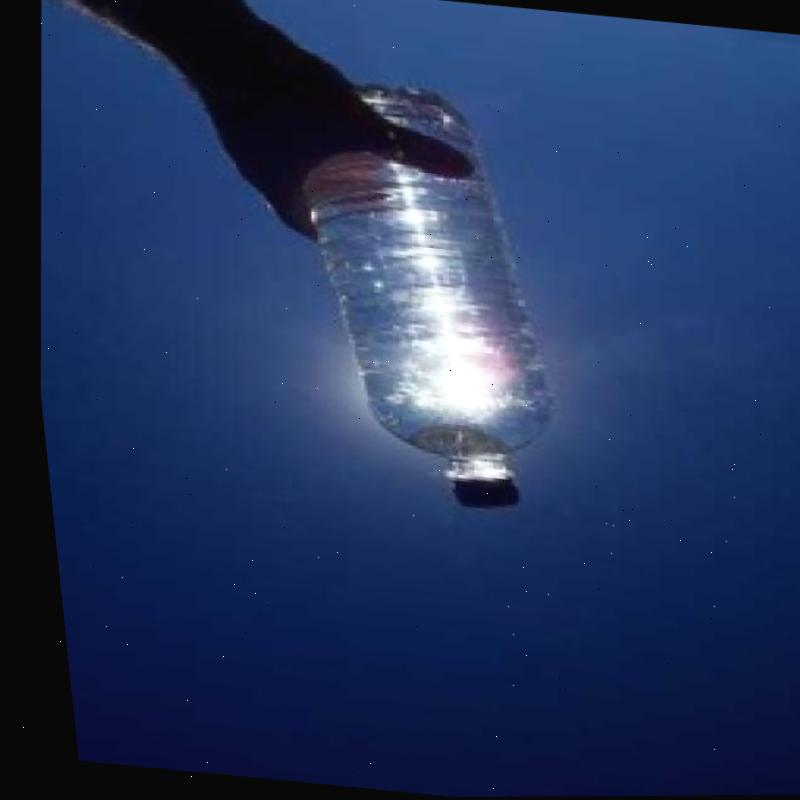botella: (253, 73, 585, 518)
